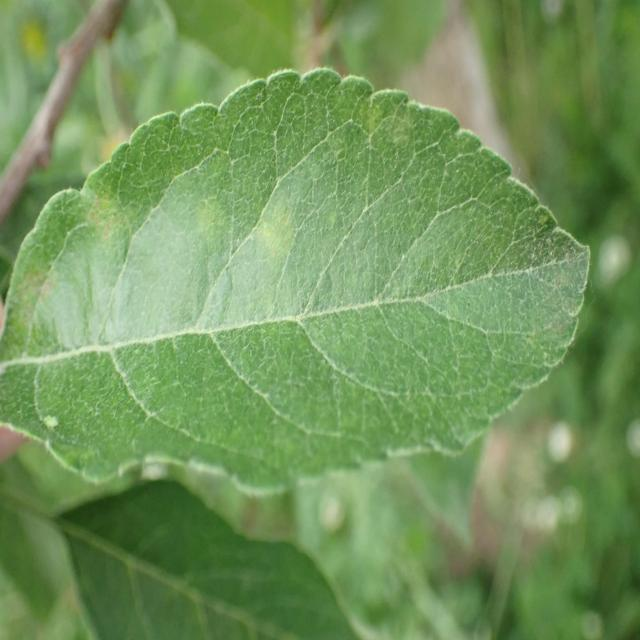scab: (16, 142, 587, 408)
